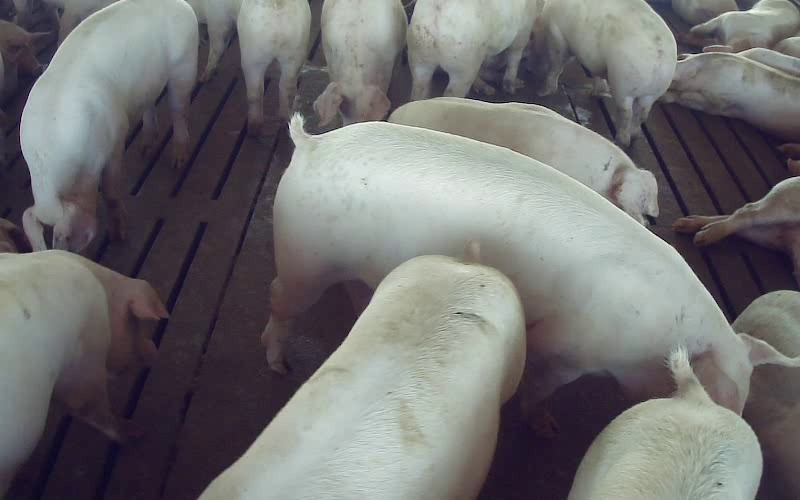pig: (200, 241, 524, 499), (0, 251, 167, 496), (389, 97, 658, 224), (568, 346, 761, 499), (529, 0, 676, 145), (188, 0, 310, 132), (407, 0, 538, 99), (660, 52, 799, 141), (314, 0, 406, 124)
